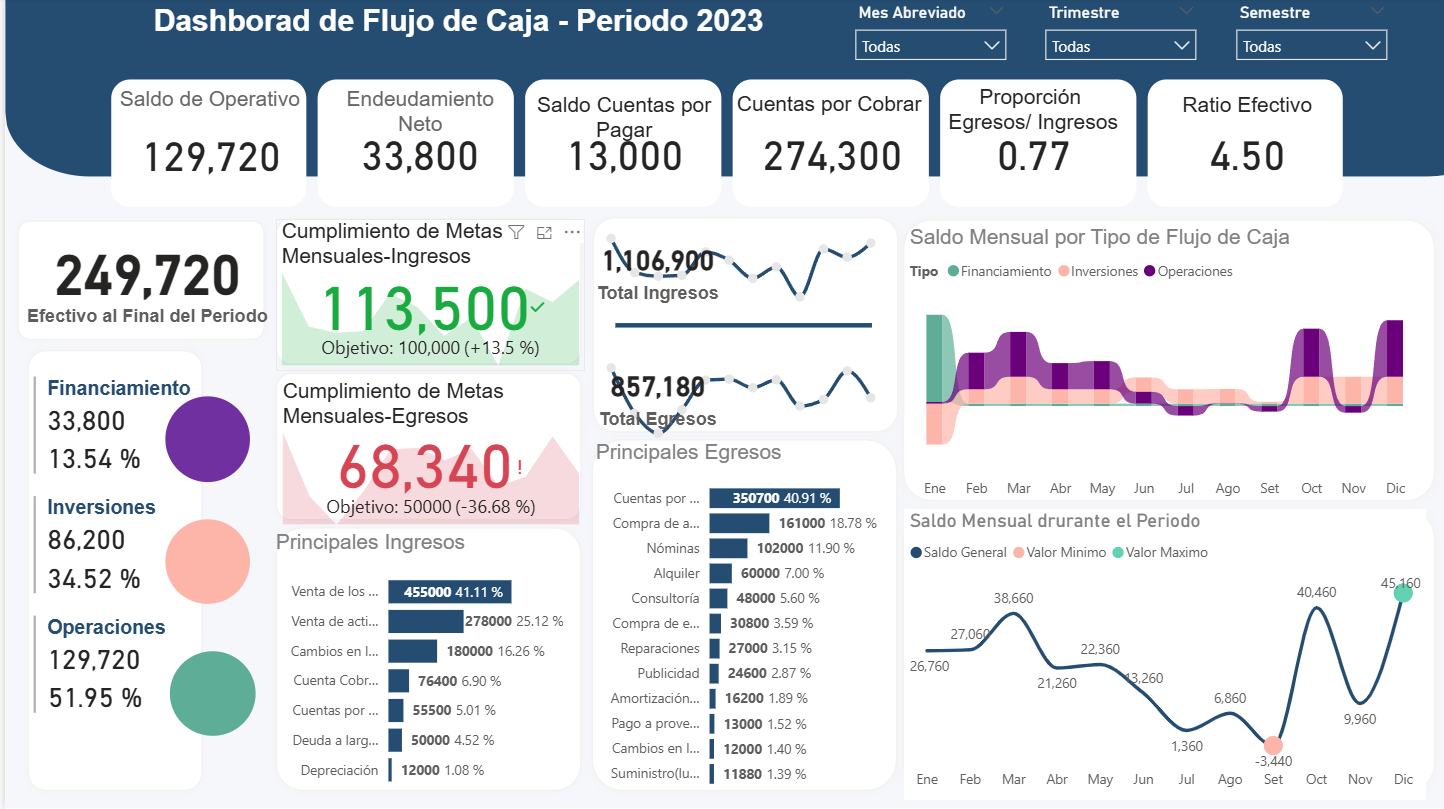

Layout of this report page (visuals, bound fields, positions):
{"tool":"powerbi","page":{"name":"Panel","canvas":[1280,720],"ordinal":0},"visuals":[{"type":"textbox","box":[126.6,0,586.6,67.4],"z":0},{"type":"card","fields":{"Values":["Dax-Medidas.Saldo Operativo"]},"box":[111.5,79,141.7,116.2],"z":1000},{"type":"textbox","box":[94.1,73.2,175.4,52.3],"z":2000},{"type":"card","fields":{"Values":["Dax-Medidas.Endeudamiento Neto (Banco)"]},"box":[277.6,90.6,181.2,92.9],"z":3000},{"type":"textbox","box":[277.6,73.2,181.2,65],"z":4000},{"type":"card","fields":{"Values":["Dax-Medidas.Saldo Cuentas por Pagar"]},"box":[478.9,89.8,140.7,93.8],"z":5000},{"type":"textbox","box":[458.8,79,181.2,66.2],"z":6000},{"type":"card","fields":{"Values":["Dax-Medidas.Saldo Cuentas por Cobrar"]},"box":[663.2,77.8,140.5,117.3],"z":7000},{"type":"textbox","box":[640,77.8,181.2,66.2],"z":8000},{"type":"card","fields":{"Values":["Dax-Medidas.Proporción Egresos/Ingresos"]},"box":[857.2,99.9,109.2,72],"z":9000},{"type":"textbox","box":[821.2,72,181.2,66.2],"z":10000},{"type":"card","fields":{"Values":["Dax-Medidas.Ratio Efectivo"]},"box":[1025.6,61.6,151,149.8],"z":11000},{"type":"textbox","box":[1010.5,79,181.2,66.2],"z":12000},{"type":"card","fields":{"Values":["Dax-Medidas.Efectivo al Final del Periodo"]},"box":[12.8,183.5,227.7,128.9],"z":13000},{"type":"multiRowCard","fields":{"Values":["Flujo_Caja.Tipo","Dax-Medidas.Efectivo al Final del Periodo","Dax-Medidas.% Total de Los Tipos de Flujos"]},"box":[20.4,330.7,180.4,379.6],"z":14000},{"type":"kpi","title":"Cumplimiento de Metas Mensuales-Ingresos","fields":{"Indicator":["Dax-Medidas.Total Ingresos"],"TrendLine":["Tabla_Calendario.Mes Num"],"Goal":["Dax-Medidas.Meta Ingresos"]},"box":[240,195.8,274.2,135],"z":15000},{"type":"kpi","title":"Cumplimiento de Metas Mensuales-Egresos","fields":{"TrendLine":["Tabla_Calendario.Mes Num"],"Indicator":["Dax-Medidas.Total Egresos"],"Goal":["Dax-Medidas.Meta Egresos"]},"box":[240.8,337.5,273.3,134.2],"z":16000},{"type":"clusteredBarChart","title":"Principales Ingresos","fields":{"Category":["Flujo_Caja.Concepto"],"Y":["Dax-Medidas.Total importe"]},"box":[235,472,265,239],"z":17000},{"type":"lineChart","fields":{"Category":["Tabla_Calendario.Mes"],"Y":["Dax-Medidas.Total Ingresos"]},"box":[524,195,257,92],"z":18000},{"type":"card","fields":{"Values":["Dax-Medidas.Total Ingresos"]},"box":[514,201,129,79],"z":19000},{"type":"lineChart","fields":{"Category":["Tabla_Calendario.Mes"],"Y":["Dax-Medidas.Total Egresos"]},"box":[524,304,257,92],"z":20000},{"type":"card","fields":{"Values":["Dax-Medidas.Total Egresos"]},"box":[514,313,129,79],"z":21000},{"type":"clusteredBarChart","title":"Principales Egresos","fields":{"Category":["Flujo_Caja.Concepto"],"Y":["Dax-Medidas.Total importe"]},"box":[519,392,268,319],"z":22000},{"type":"ribbonChart","title":"Saldo Mensual por Tipo de Flujo de Caja","fields":{"Category":["Tabla_Calendario.Mes Abreviado"],"Y":["Dax-Medidas.Saldo General"],"Series":["Flujo_Caja.Tipo"]},"box":[797,201,463,252],"z":23000},{"type":"lineChart","title":"Saldo Mensual drurante el Periodo","fields":{"Category":["Tabla_Calendario.Mes Abreviado"],"Y":["Dax-Medidas.Saldo General","Dax-Medidas.Valor Minimo","Dax-Medidas.Valor Maximo"]},"box":[797,453,463,258],"z":24000},{"type":"slicer","fields":{"Values":["Tabla_Calendario.Mes Abreviado"]},"box":[744,0,154,58],"z":25000},{"type":"slicer","fields":{"Values":["Tabla_Calendario.Trimestre"]},"box":[912,0,154,58],"z":26000},{"type":"slicer","fields":{"Values":["Tabla_Calendario.Semestre"]},"box":[1082,0,154,58],"z":27000}]}

Visuals, with their boxes in screenshot pixels (x1, y1, x2, y2), scaled from the page's 1280x720 canvas onto the 1444x809 screenshot:
textbox: [left=143, top=0, right=805, bottom=76]
card - Dax-Medidas.Saldo Operativo: [left=126, top=89, right=286, bottom=219]
textbox: [left=106, top=82, right=304, bottom=141]
card - Dax-Medidas.Endeudamiento Neto (Banco): [left=313, top=102, right=518, bottom=206]
textbox: [left=313, top=82, right=518, bottom=155]
card - Dax-Medidas.Saldo Cuentas por Pagar: [left=540, top=101, right=699, bottom=206]
textbox: [left=518, top=89, right=722, bottom=163]
card - Dax-Medidas.Saldo Cuentas por Cobrar: [left=748, top=87, right=907, bottom=219]
textbox: [left=722, top=87, right=926, bottom=162]
card - Dax-Medidas.Proporción Egresos/Ingresos: [left=967, top=112, right=1090, bottom=193]
textbox: [left=926, top=81, right=1131, bottom=155]
card - Dax-Medidas.Ratio Efectivo: [left=1157, top=69, right=1327, bottom=238]
textbox: [left=1140, top=89, right=1344, bottom=163]
card - Dax-Medidas.Efectivo al Final del Periodo: [left=14, top=206, right=271, bottom=351]
multiRowCard - Flujo_Caja.Tipo x Dax-Medidas.Efectivo al Final del Periodo: [left=23, top=372, right=227, bottom=798]
"Cumplimiento de Metas Mensuales-Ingresos" kpi: [left=271, top=220, right=580, bottom=372]
"Cumplimiento de Metas Mensuales-Egresos" kpi: [left=272, top=379, right=580, bottom=530]
"Principales Ingresos" clusteredBarChart: [left=265, top=530, right=564, bottom=799]
lineChart - Tabla_Calendario.Mes x Dax-Medidas.Total Ingresos: [left=591, top=219, right=881, bottom=322]
card - Dax-Medidas.Total Ingresos: [left=580, top=226, right=725, bottom=315]
lineChart - Tabla_Calendario.Mes x Dax-Medidas.Total Egresos: [left=591, top=342, right=881, bottom=445]
card - Dax-Medidas.Total Egresos: [left=580, top=352, right=725, bottom=440]
"Principales Egresos" clusteredBarChart: [left=585, top=440, right=888, bottom=799]
"Saldo Mensual por Tipo de Flujo de Caja" ribbonChart: [left=899, top=226, right=1421, bottom=509]
"Saldo Mensual drurante el Periodo" lineChart: [left=899, top=509, right=1421, bottom=799]
slicer - Tabla_Calendario.Mes Abreviado: [left=839, top=0, right=1013, bottom=65]
slicer - Tabla_Calendario.Trimestre: [left=1029, top=0, right=1203, bottom=65]
slicer - Tabla_Calendario.Semestre: [left=1221, top=0, right=1394, bottom=65]
